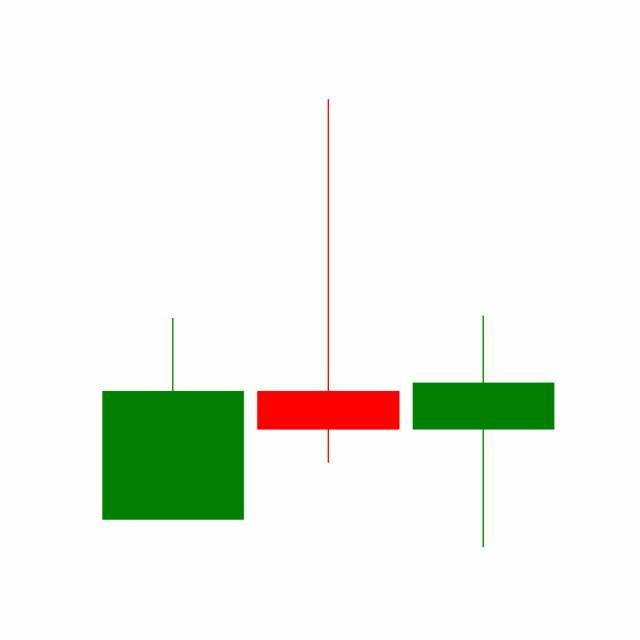Spinning Top: (406, 314, 562, 552)
